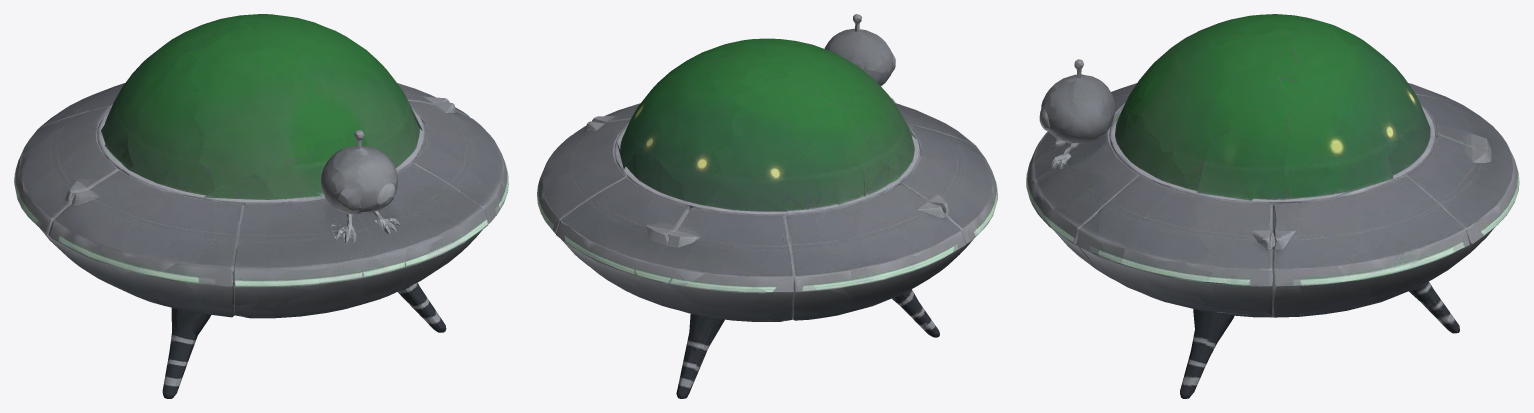
Rendered from ufo.glb.
3 renders of one model, left to right at view 1: azimuth 30°, elevation 25°; view 2: azimuth 150°, elevation 25°; view 3: azimuth 270°, elevation 25°, orthographic. The views are drawn at different scales.
Bounding box in the file's own units: 1.9 × 1.28 × 1.9.
1 material, 1 textured.
